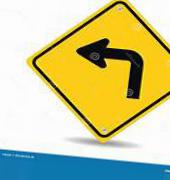left: (25, 1, 168, 142)
